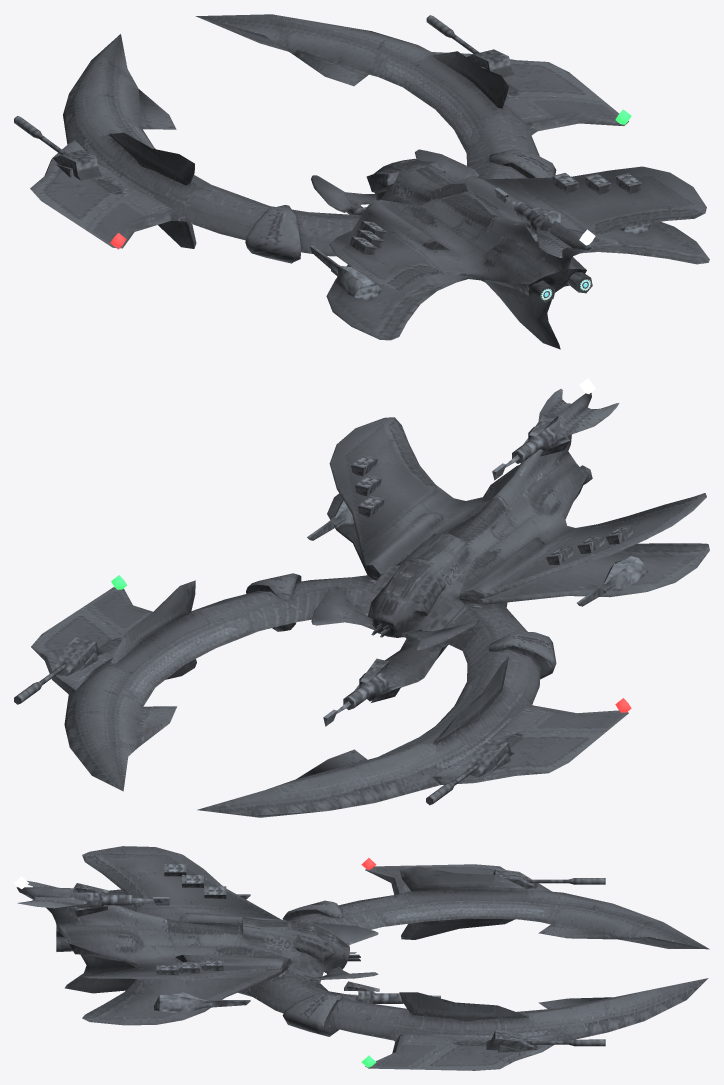
Rendered from goliath-double-winged.glb.
3 renders of one model, top to bottom at view 1: azimuth 30°, elevation 25°; view 2: azimuth 150°, elevation 25°; view 3: azimuth 270°, elevation 25°, orthographic. The views are drawn at different scales.
Parts seen in each view (by area): view 1: main; view 2: main; view 3: main.
Part boxes in pixels (bbox=[...]): main: bbox=[14, 14, 709, 349]; main: bbox=[14, 389, 709, 817]; main: bbox=[16, 846, 709, 1070].
Bounding box in the file's own units: 141 × 42.67 × 201.
4 materials, 1 textured.
